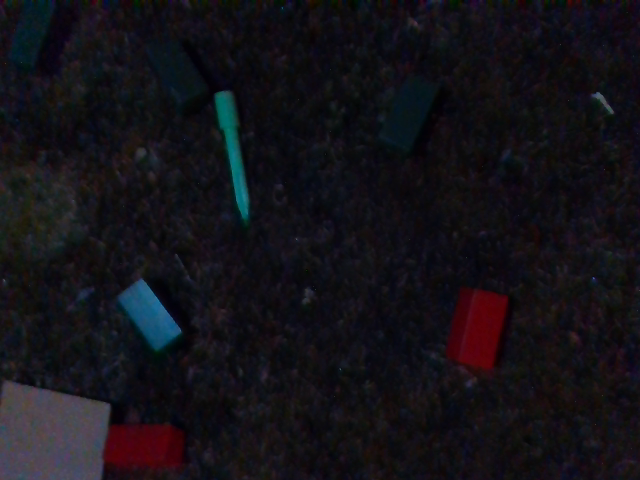Probe: (206, 82, 257, 223)
